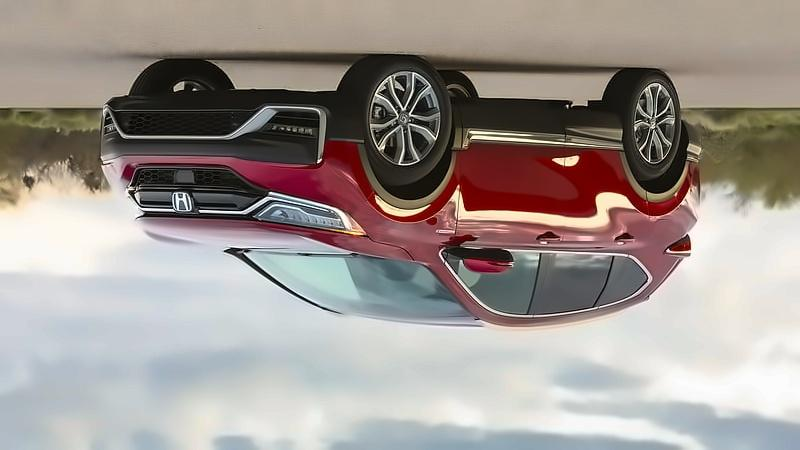Car hood: (130, 213, 415, 264)
Driver-s door - -F-R-: (462, 101, 563, 324)
Fender - -F-R-: (347, 101, 463, 270)
Fender - -R-R-: (646, 183, 683, 281)
Front bumper: (90, 85, 380, 203)
Headlight - -L-: (113, 180, 150, 223)
Headlight - -R-: (245, 189, 369, 240)
Passenger-s door - -R-R-: (565, 136, 648, 323)
Rear bumper: (678, 116, 708, 212)
Rear light - -R-: (661, 228, 697, 262)
Side bumper - -R-: (449, 92, 627, 154)
Side mirror - -R-: (453, 245, 519, 277)
